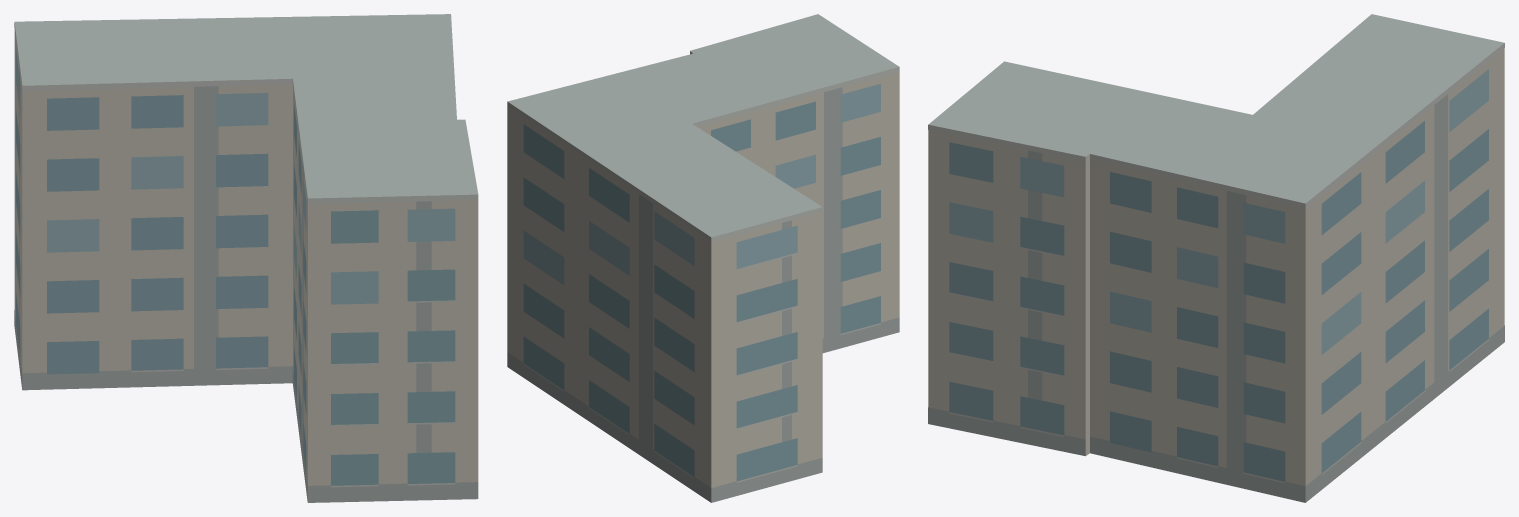
The model's file is survey-upis-32726257.glb.
The picture shows the model from 3 angles, left to right: view 1: azimuth 30°, elevation 25°; view 2: azimuth 150°, elevation 25°; view 3: azimuth 270°, elevation 25°; orthographic projection. The views are drawn at different scales.
Parts seen in each view (by area): view 1: survey-upis-32726257.tmp; view 2: survey-upis-32726257.tmp; view 3: survey-upis-32726257.tmp.
Part boxes in pixels (x1,y1,x2,y2): survey-upis-32726257.tmp: (14, 14, 478, 502); survey-upis-32726257.tmp: (507, 14, 899, 502); survey-upis-32726257.tmp: (928, 14, 1504, 502).
Size of the model in its own units: 18.48 by 13.6 by 23.75.
